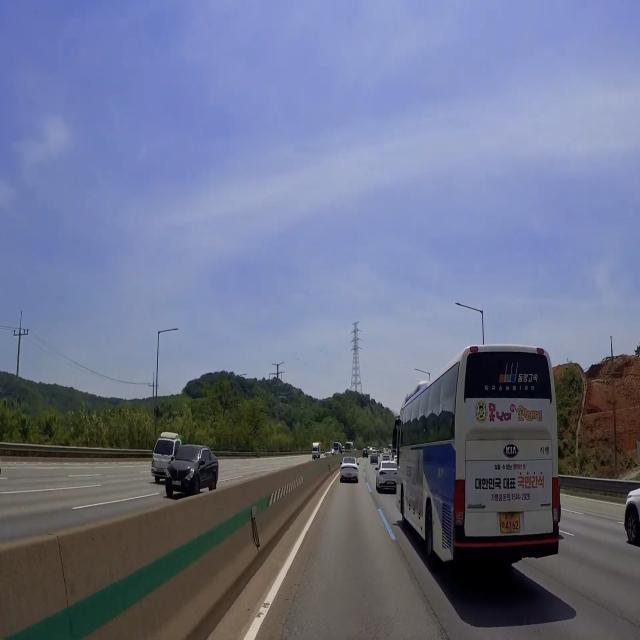car: (497, 508, 527, 539), (170, 474, 181, 491), (154, 464, 166, 478), (384, 478, 397, 490), (344, 472, 353, 482)
